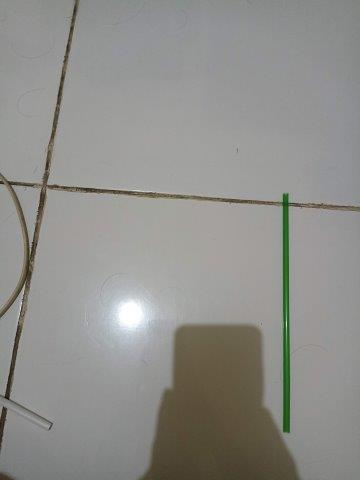sedotan: (283, 194, 290, 432)
